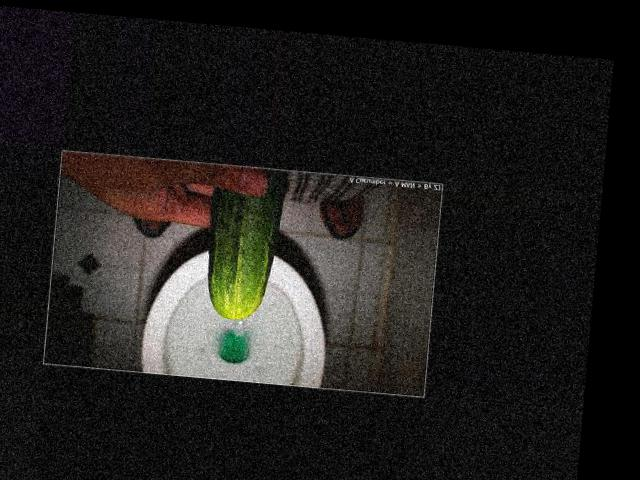cucumber: (203, 162, 288, 322)
